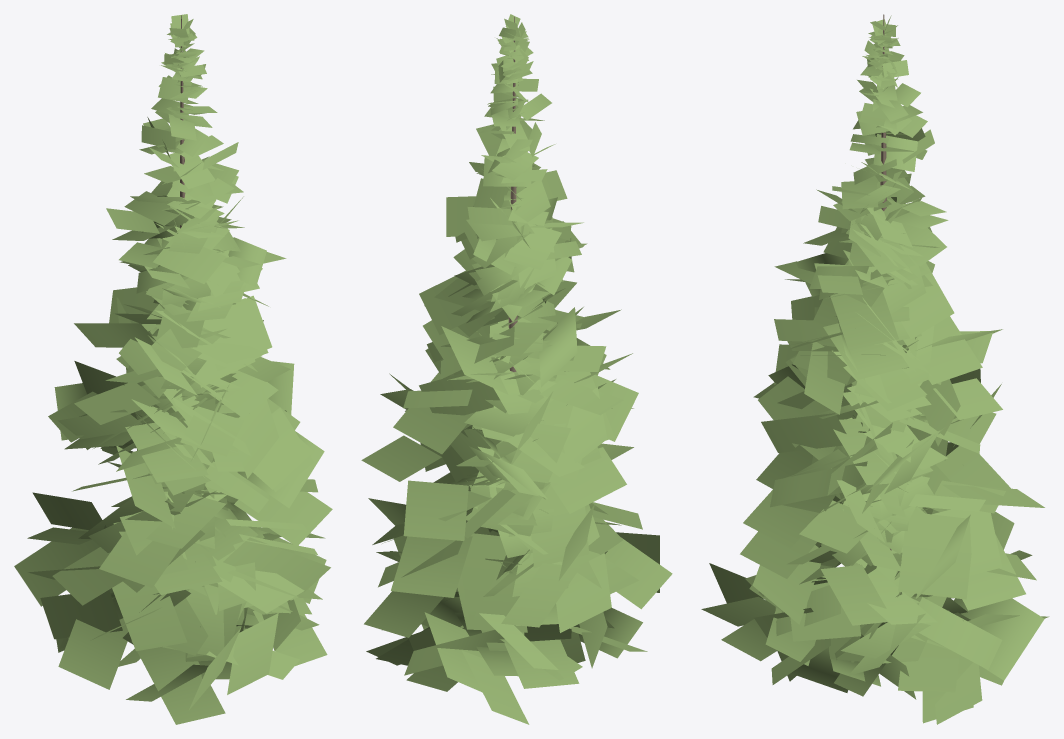
File: Conifer_2_lod2.glb
3 renders of one model, left to right at view 1: azimuth 30°, elevation 25°; view 2: azimuth 150°, elevation 25°; view 3: azimuth 270°, elevation 25°, orthographic.
Visible parts, largest first — view 1: Conifer_2_lod2; view 2: Conifer_2_lod2; view 3: Conifer_2_lod2.
Boxes of the visible parts, bbox=[...] form: Conifer_2_lod2: bbox=[14, 14, 332, 724]; Conifer_2_lod2: bbox=[361, 14, 672, 724]; Conifer_2_lod2: bbox=[701, 14, 1049, 724].
Bounding box in the file's own units: 6.24 × 14.55 × 6.88.
